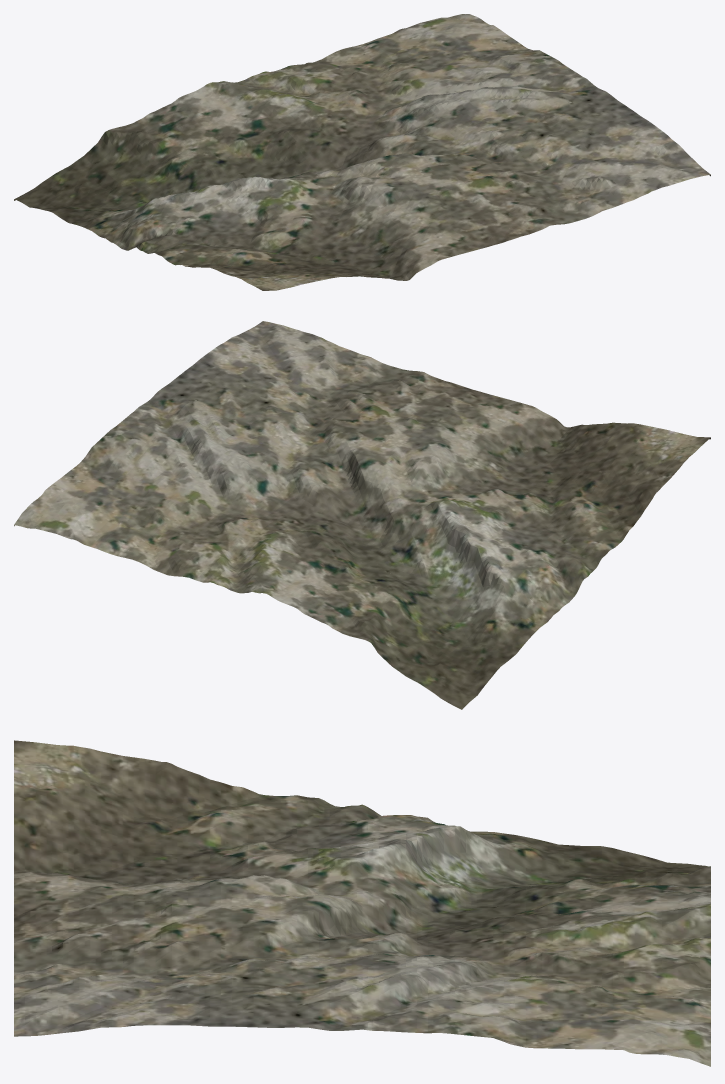
3 views of the same model, one above another, from view 1: azimuth 30°, elevation 25°; view 2: azimuth 150°, elevation 25°; view 3: azimuth 270°, elevation 25° (orthographic). The views are drawn at different scales.
Size of the model in its own units: 250 by 57.32 by 241.
Materials: 1 (1 with a texture image).
